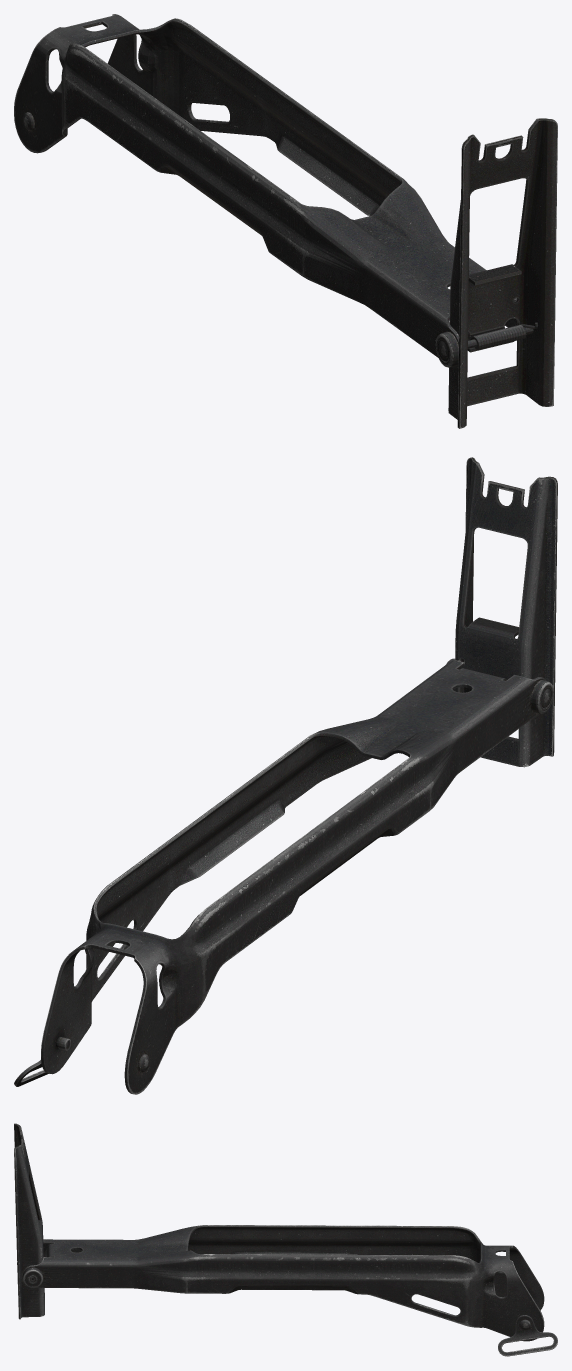
3 renders of one model, top to bottom at view 1: azimuth 30°, elevation 25°; view 2: azimuth 150°, elevation 25°; view 3: azimuth 270°, elevation 25°, orthographic. The views are drawn at different scales.
Parts seen in each view (by area): view 1: TW_62e2969582ebf260c20539c2_PZ_Import; view 2: TW_62e2969582ebf260c20539c2_PZ_Import; view 3: TW_62e2969582ebf260c20539c2_PZ_Import.
Part boxes in pixels (x1,y1,x2,y2): TW_62e2969582ebf260c20539c2_PZ_Import: (14,14,557,428); TW_62e2969582ebf260c20539c2_PZ_Import: (14,457,557,1094); TW_62e2969582ebf260c20539c2_PZ_Import: (14,1123,557,1356).
Bounding box in the file's own units: 0.0251 × 0.1587 × 0.0652.
Materials: 1 (1 with a texture image).
